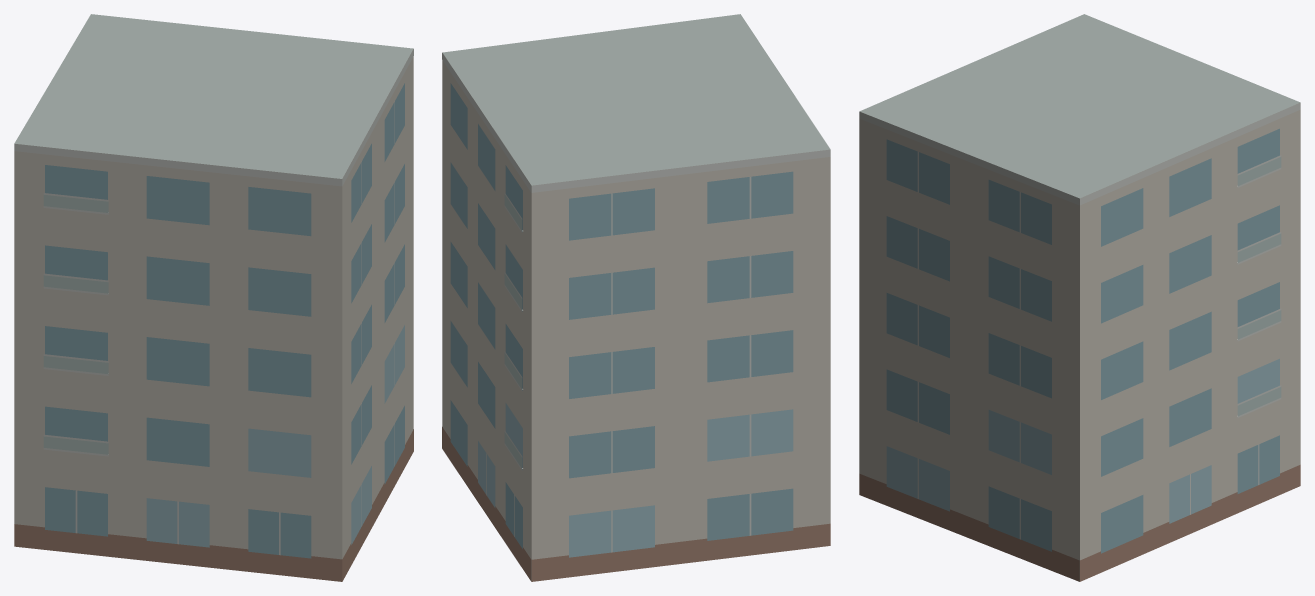
Rendered from survey-upis-32972238.glb.
The picture shows the model from 3 angles, left to right: view 1: azimuth 30°, elevation 25°; view 2: azimuth 150°, elevation 25°; view 3: azimuth 270°, elevation 25°; orthographic projection. The views are drawn at different scales.
Visible parts, largest first — view 1: survey-upis-32972238.tmp; view 2: survey-upis-32972238.tmp; view 3: survey-upis-32972238.tmp.
Part boxes in pixels (left/top/right/bottom): survey-upis-32972238.tmp: left=14, top=14, right=413, bottom=581; survey-upis-32972238.tmp: left=442, top=14, right=830, bottom=581; survey-upis-32972238.tmp: left=859, top=14, right=1300, bottom=581.
Bounding box in the file's own units: 13.63 × 13.2 × 13.78.
